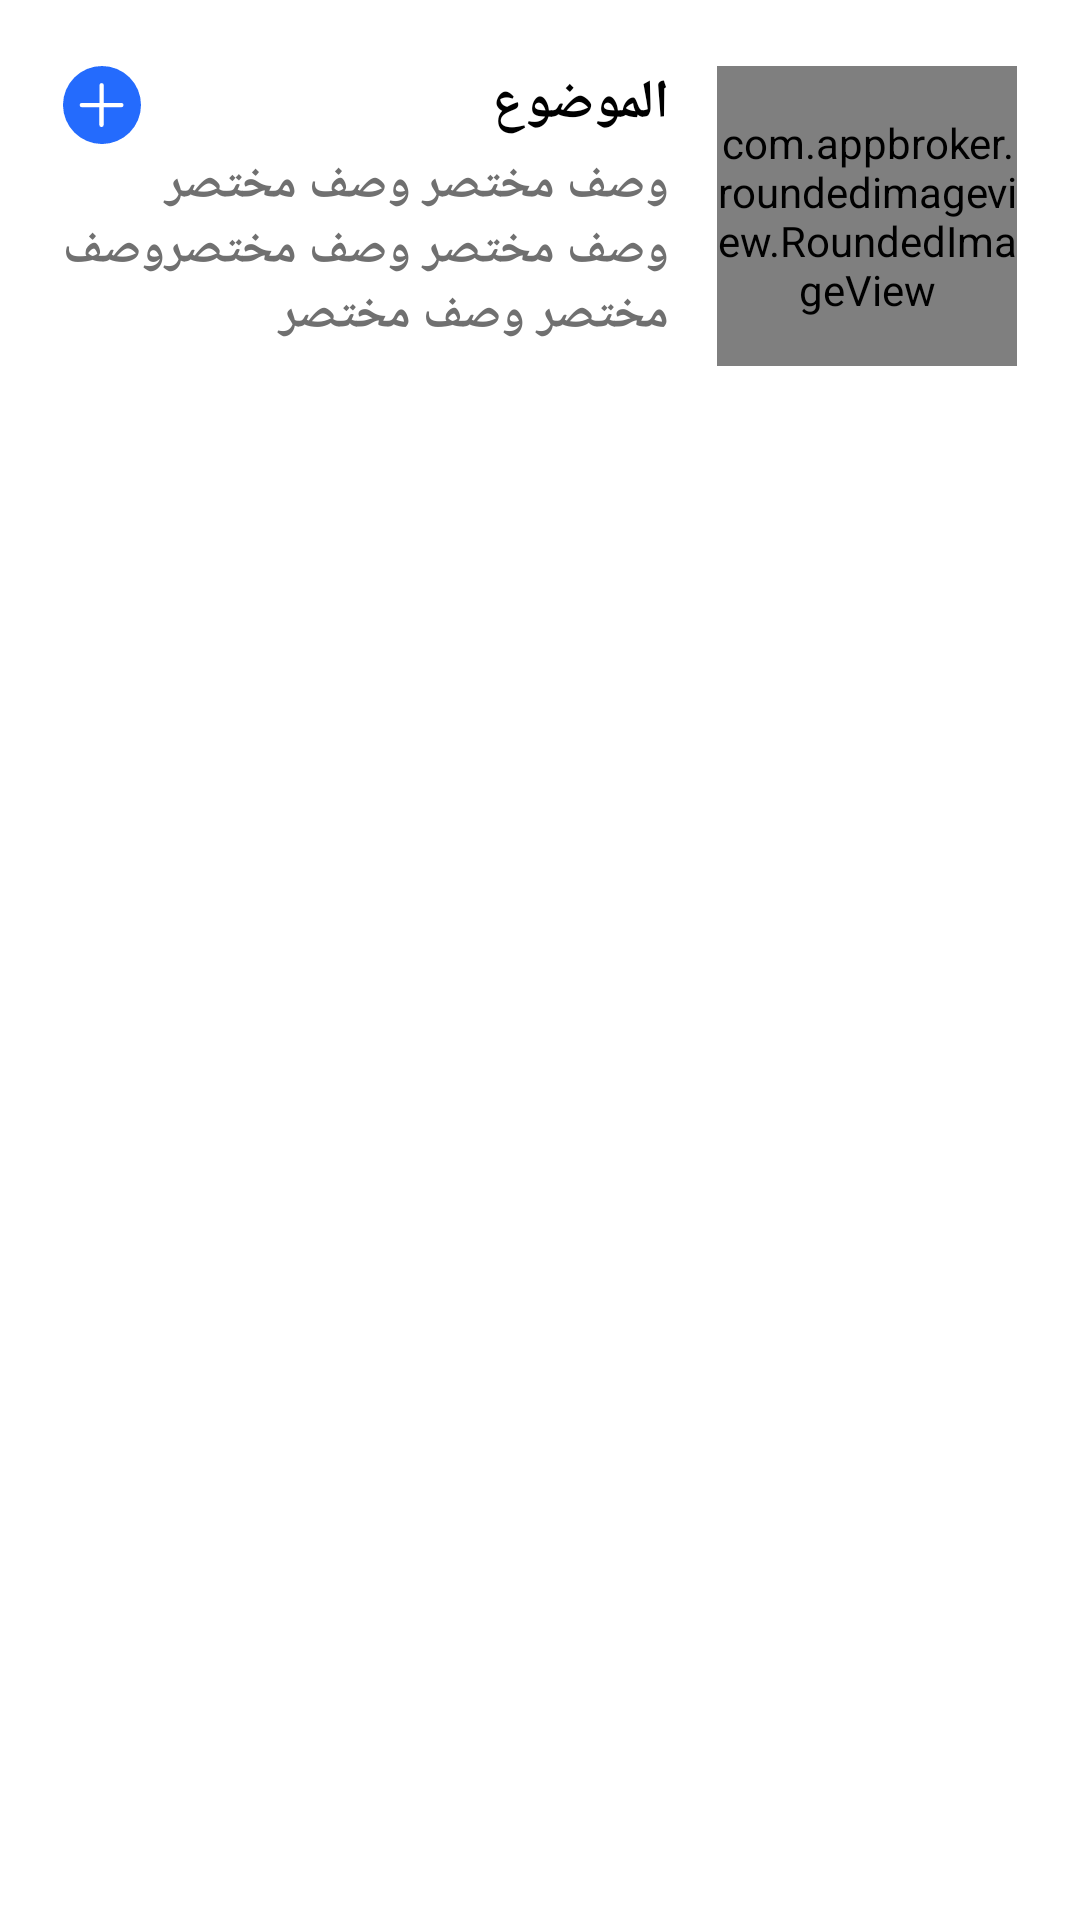

Screen size 1080 x 1920. Icon name, then its center in pixels as (x=x, y=y):
subscribe topic: (x=102, y=105)
